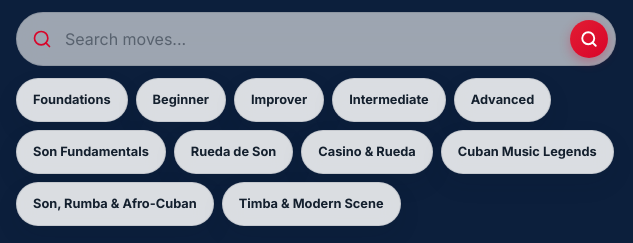
Scenario: SearchBar › shows "No moves found" for nonsense query
Type "zzzzzznotarealmove" into the search field with placeholder "Search moves..." at (316, 39), box left=16, top=12, right=616, bottom=66
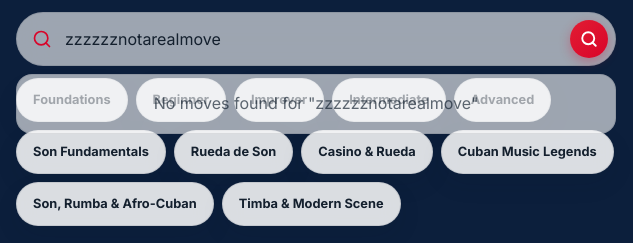
Expected: the text "No moves found for \"zzzzzznotarealmove\"" is shown, left=16, top=74, right=616, bottom=134
